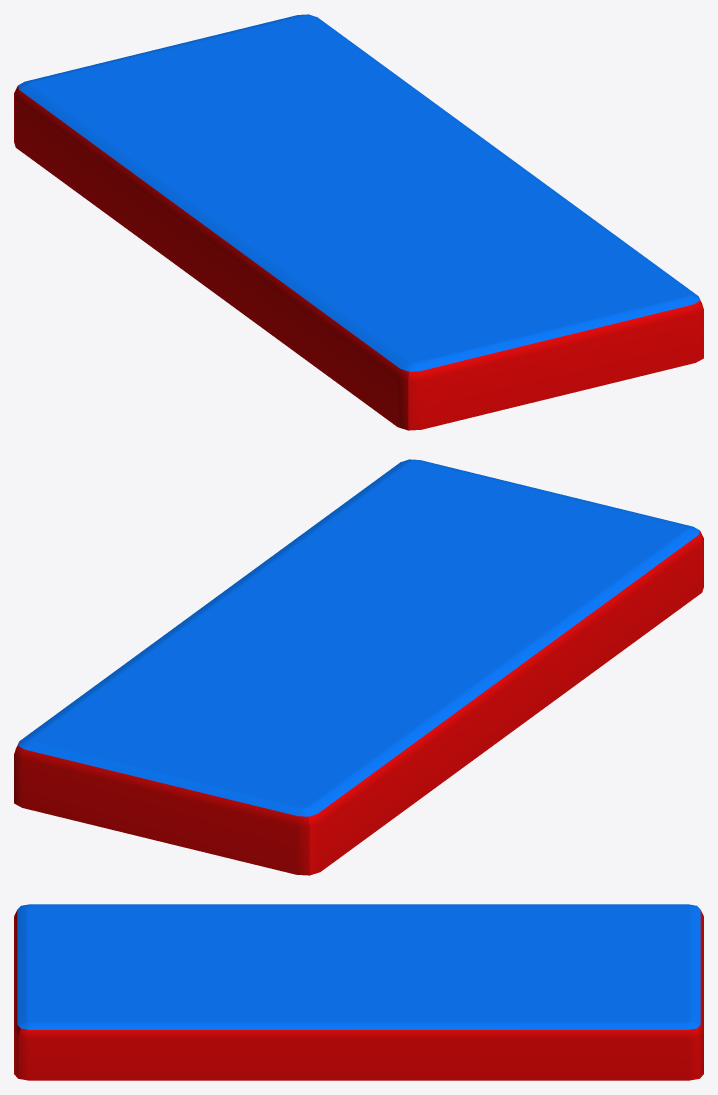
The model's file is staticMesh_prop_Mattress.fbx.
3 renders of one model, top to bottom at view 1: azimuth 30°, elevation 25°; view 2: azimuth 150°, elevation 25°; view 3: azimuth 270°, elevation 25°, orthographic. The views are drawn at different scales.
Parts seen in each view (by area): view 1: pCube1; view 2: pCube1; view 3: pCube1.
Part boxes in pixels (<box>): pCube1: <box>14,14,703,430</box>; pCube1: <box>14,459,703,875</box>; pCube1: <box>14,904,703,1080</box>.
Bounding box in the file's own units: 231 × 43.94 × 525.
